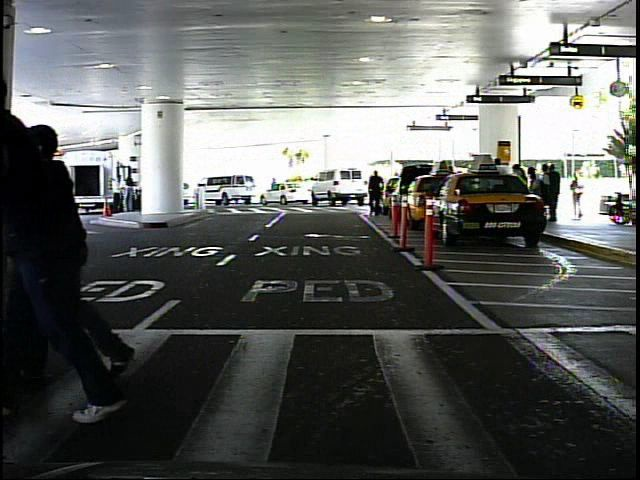person: (367, 169, 388, 216), (571, 172, 590, 218), (111, 174, 126, 214)
